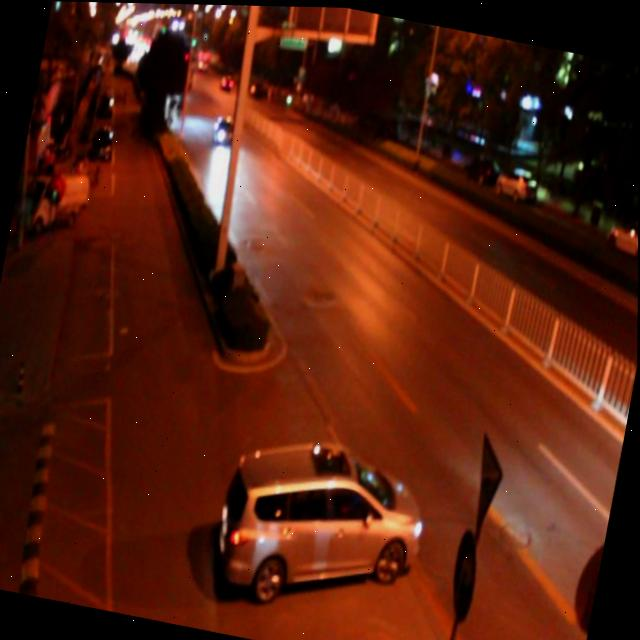car: (213, 425, 434, 615), (211, 116, 236, 143)
